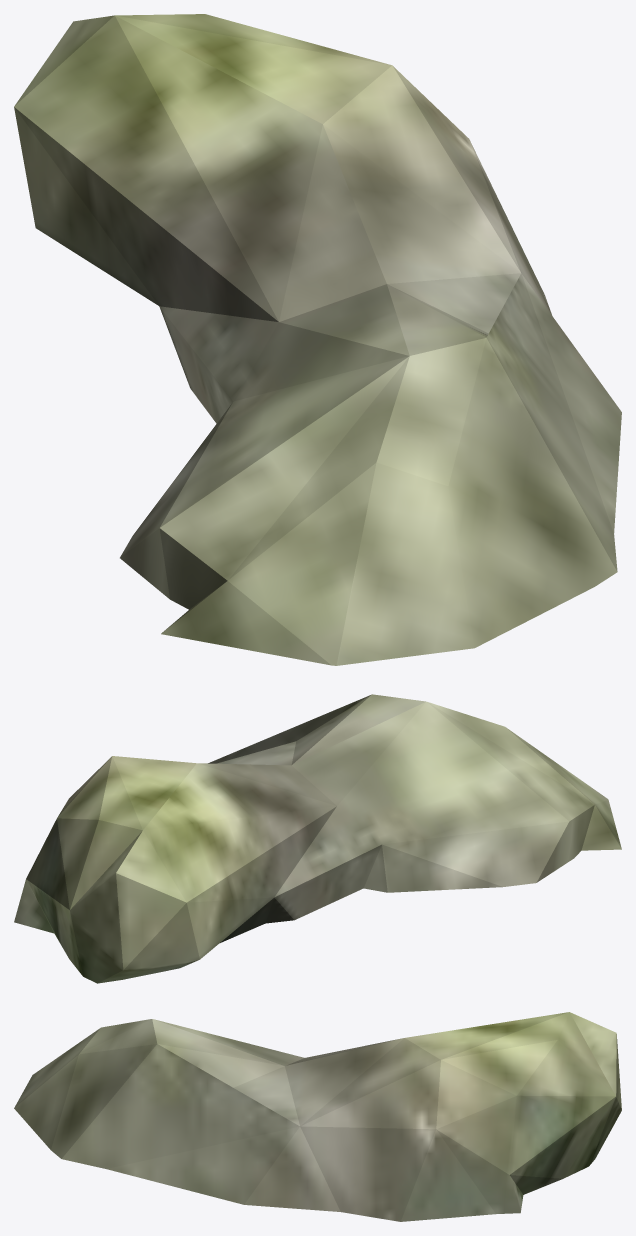
3 renders of one model, top to bottom at view 1: azimuth 30°, elevation 25°; view 2: azimuth 150°, elevation 25°; view 3: azimuth 270°, elevation 25°, orthographic. The views are drawn at different scales.
Size of the model in its own units: 0.6121 by 0.2187 by 0.9033.
Materials: 1 (1 with a texture image).
